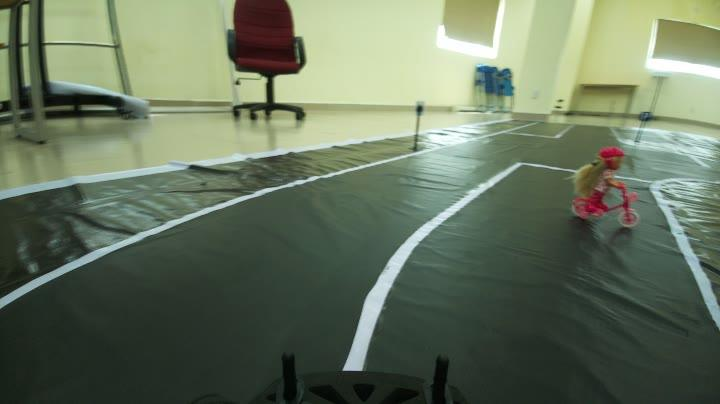pedestrian: (564, 143, 638, 228)
